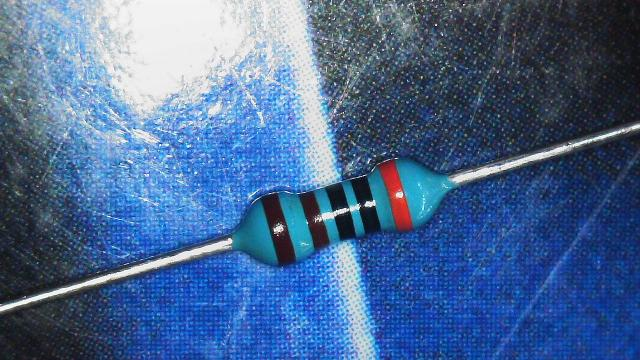black: (356, 176, 376, 229), (333, 184, 349, 240)
brown: (262, 192, 295, 264), (301, 191, 325, 248)
orange: (379, 160, 412, 230)
resistor: (221, 126, 472, 288)
